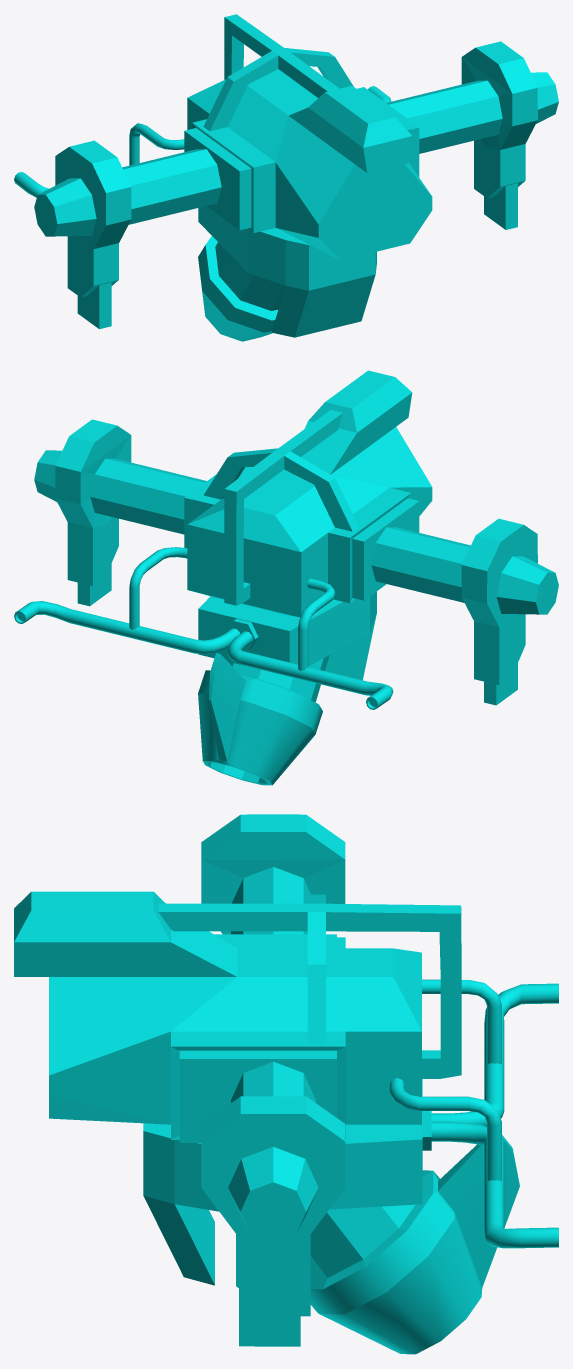
The model's file is robPower_body.fbx.
3 renders of one model, top to bottom at view 1: azimuth 30°, elevation 25°; view 2: azimuth 150°, elevation 25°; view 3: azimuth 270°, elevation 25°, orthographic. The views are drawn at different scales.
Visible parts, largest first — view 1: robPower_body; view 2: robPower_body; view 3: robPower_body.
Part boxes in pixels (x1,y1,x2,y2): robPower_body: (14, 14, 558, 341); robPower_body: (14, 370, 558, 785); robPower_body: (14, 814, 558, 1354).
Size of the model in its own units: 104 by 61.9 by 68.54.
